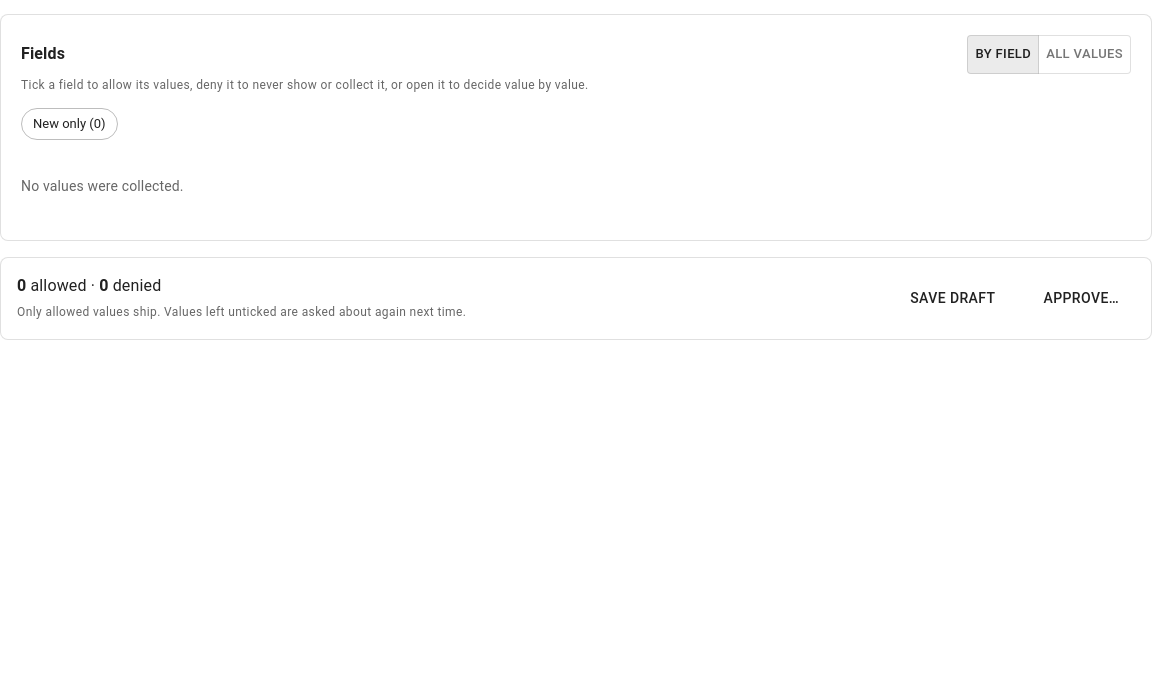
Test: ReviewScreen paging › Previous returns to the page before, not the current one
The width and height of the screenshot is (1152, 674).
Step 1. Click the button "All values" → (1085, 54), box 1038,35 -> 1131,74
(page scrolled)
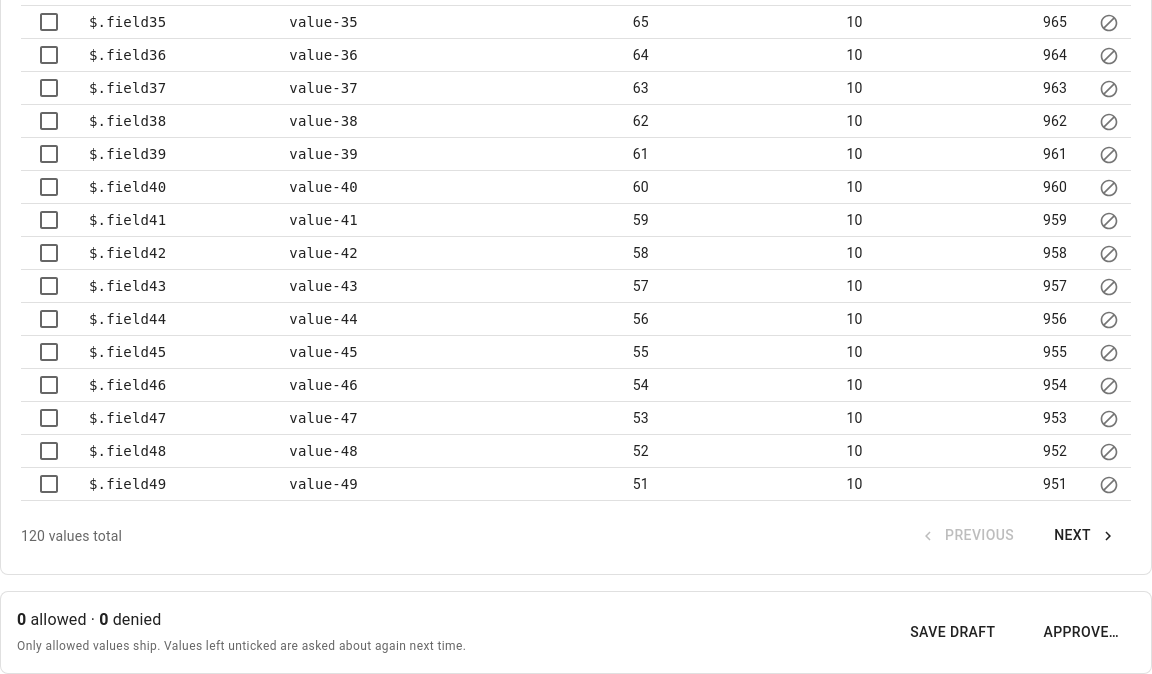
Expected: the button "Previous" is disabled, 905,518 -> 1030,554
Step 2. Click the button "Next" → (1085, 536), box 1038,518 -> 1131,554
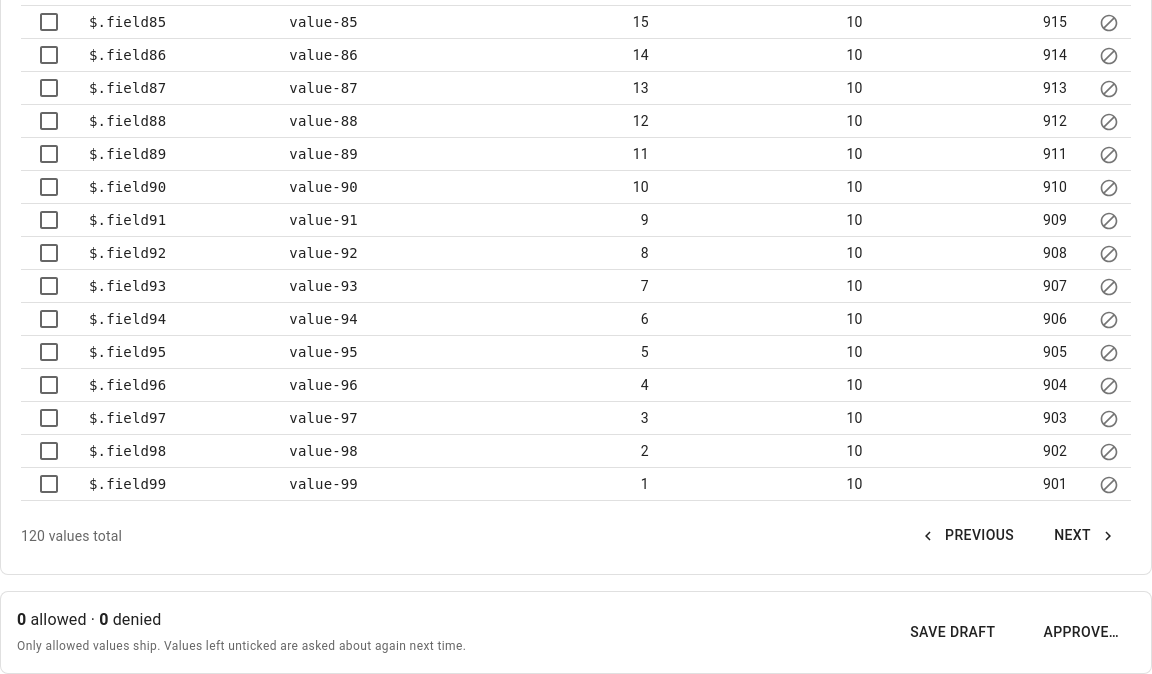
Step 3. Click the button "Next" → (1085, 536), box 1038,518 -> 1131,554
(page scrolled)
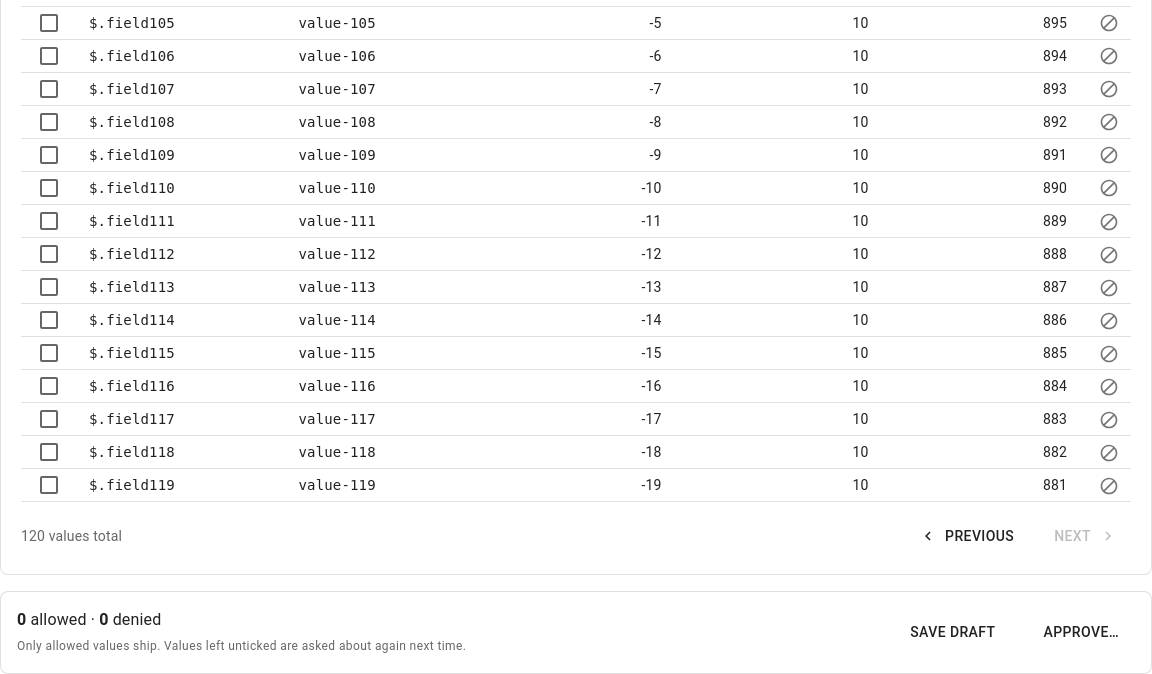
Step 4. Click the button "Previous" → (968, 536), box 905,518 -> 1030,554
(page scrolled)
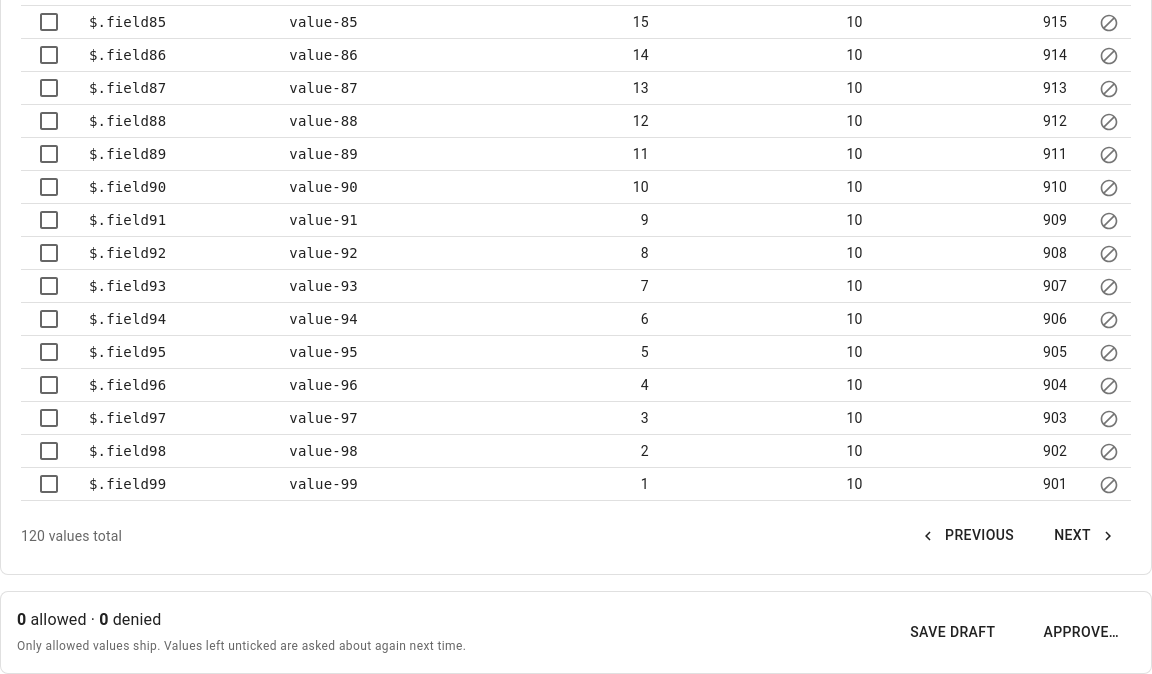
Step 5. Click the button "Previous" → (968, 536), box 905,518 -> 1030,554
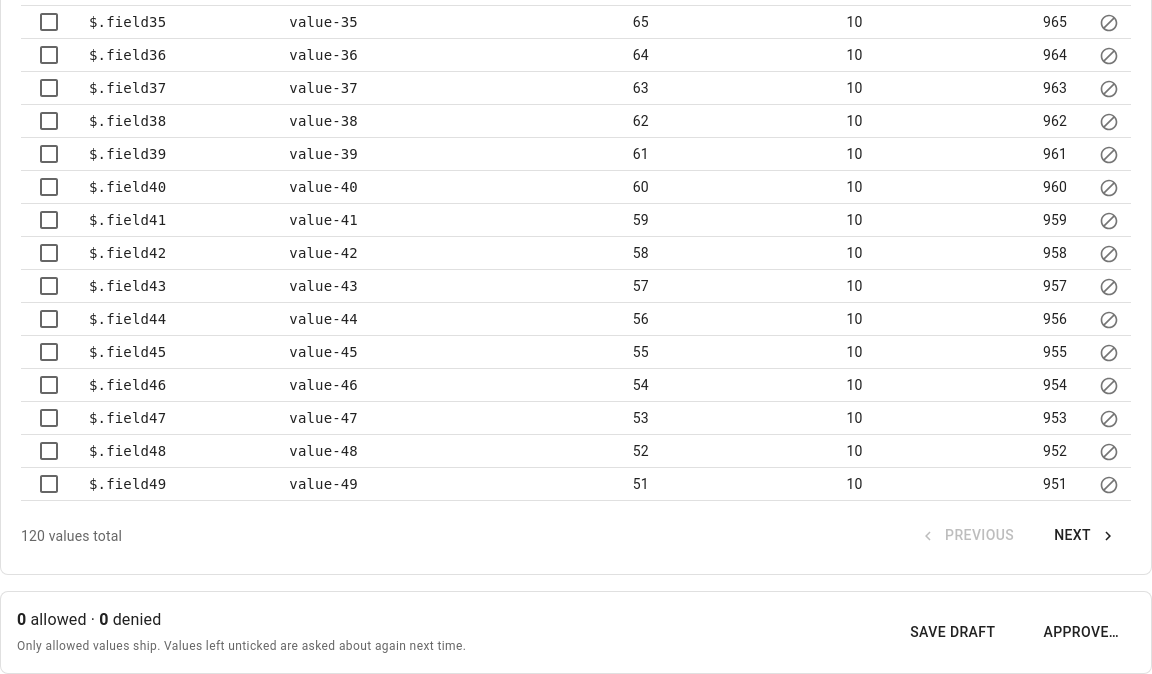
Expected: the button "Previous" is disabled, 905,518 -> 1030,554
